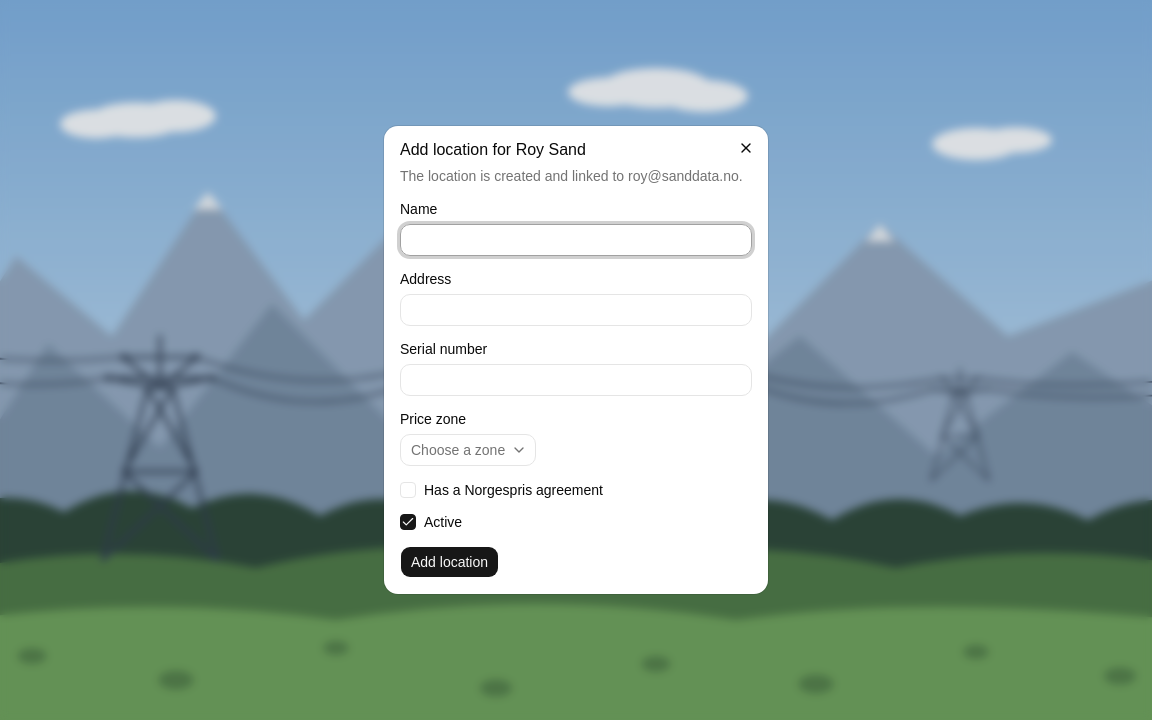
Test: AddLocationDialog › creates the location, links it to the chosen user and shows the key once
In the field labelled "Name": [576, 240] box x1=400 y1=224 x2=752 y2=256, type "Cabin"
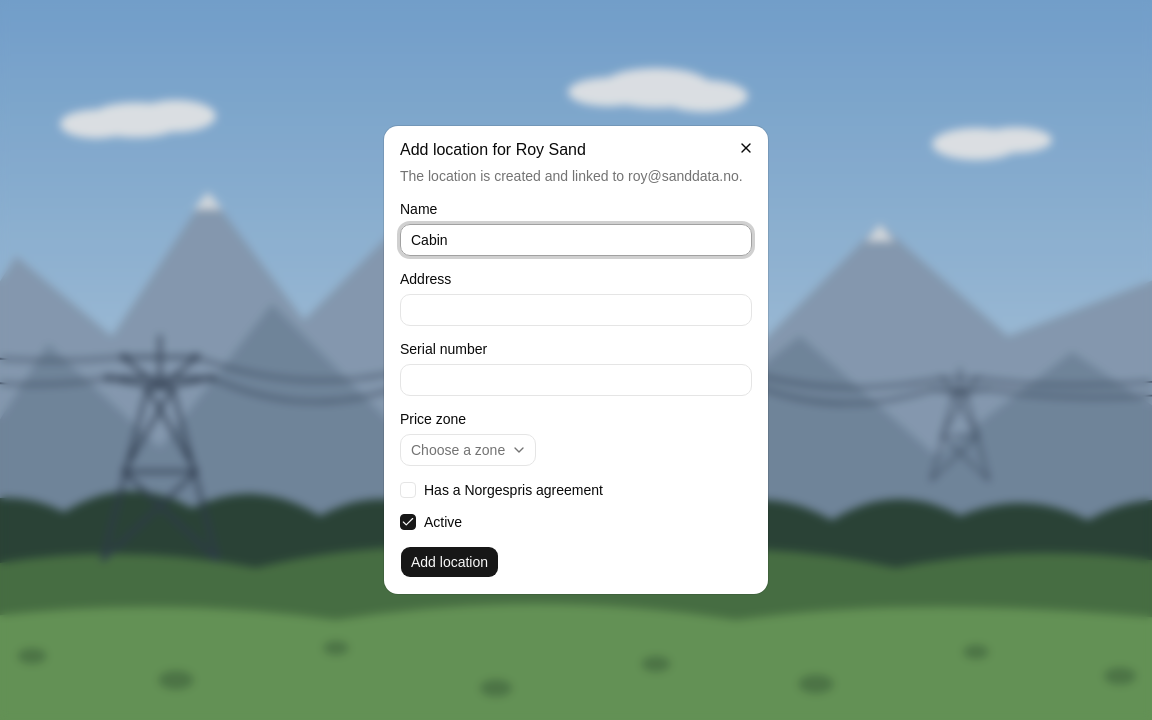
In the field labelled "Address": [576, 310] box x1=400 y1=294 x2=752 y2=326, type "Hyttevegen 1"
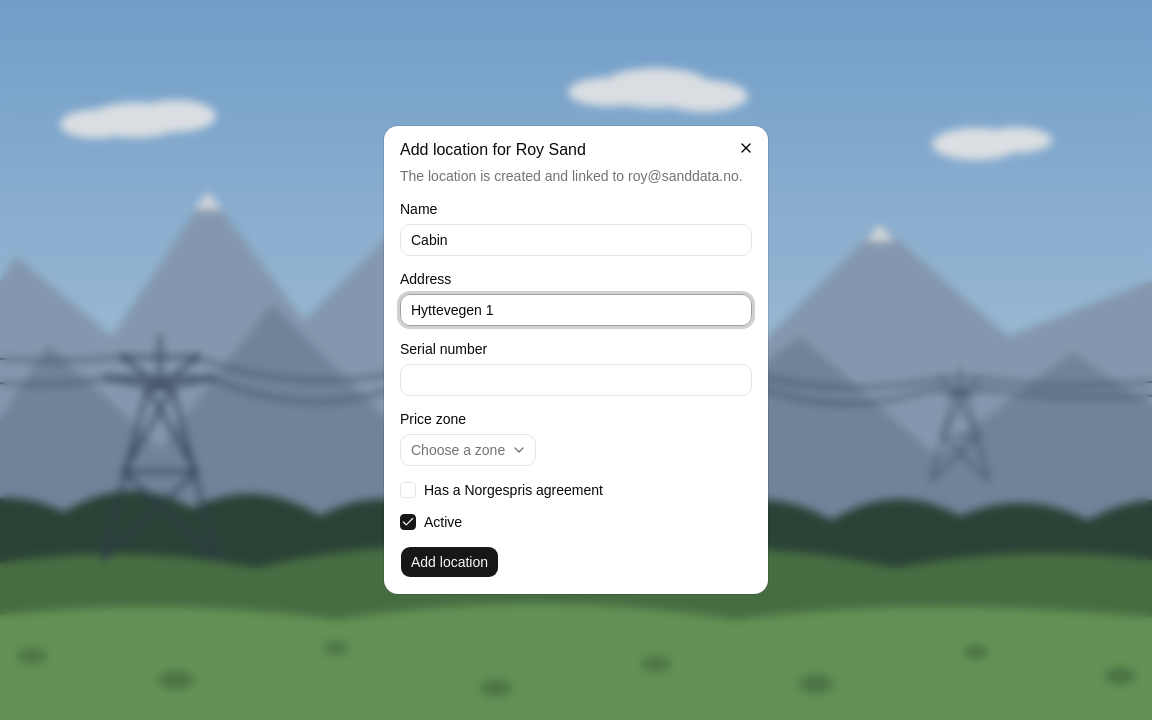
In the field labelled "Serial number": [576, 380] box x1=400 y1=364 x2=752 y2=396, type "SN-1"
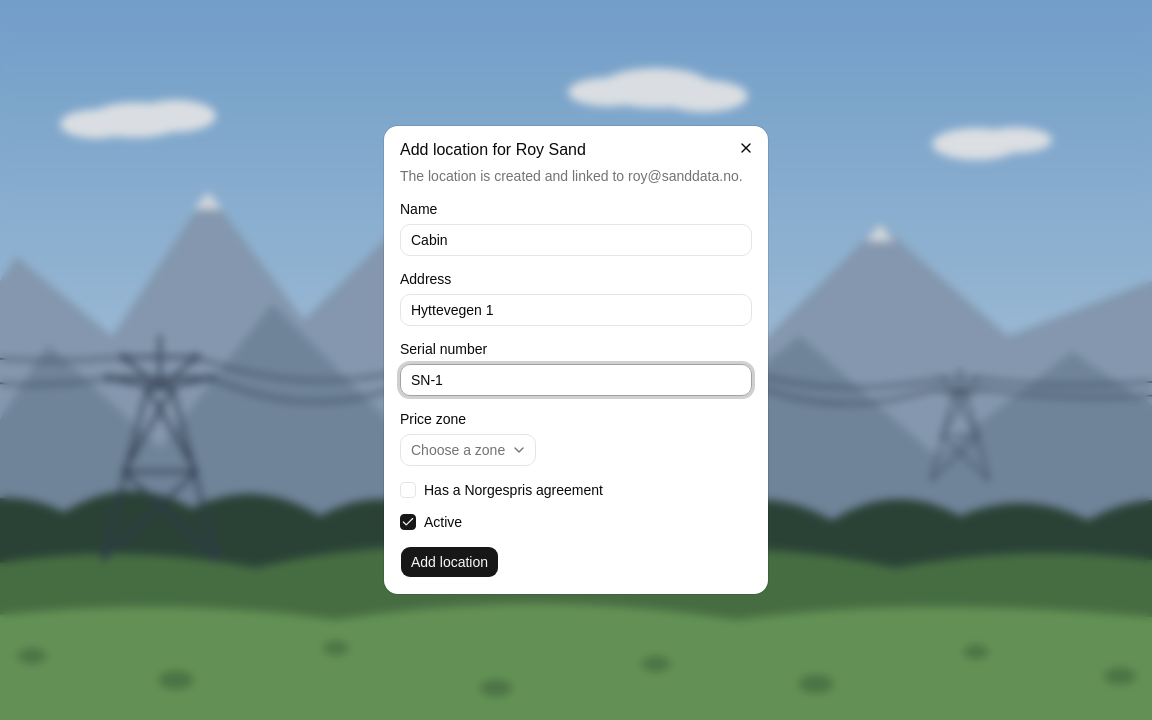
Click the dropdown named "Price zone": [468, 450] box x1=400 y1=434 x2=536 y2=466
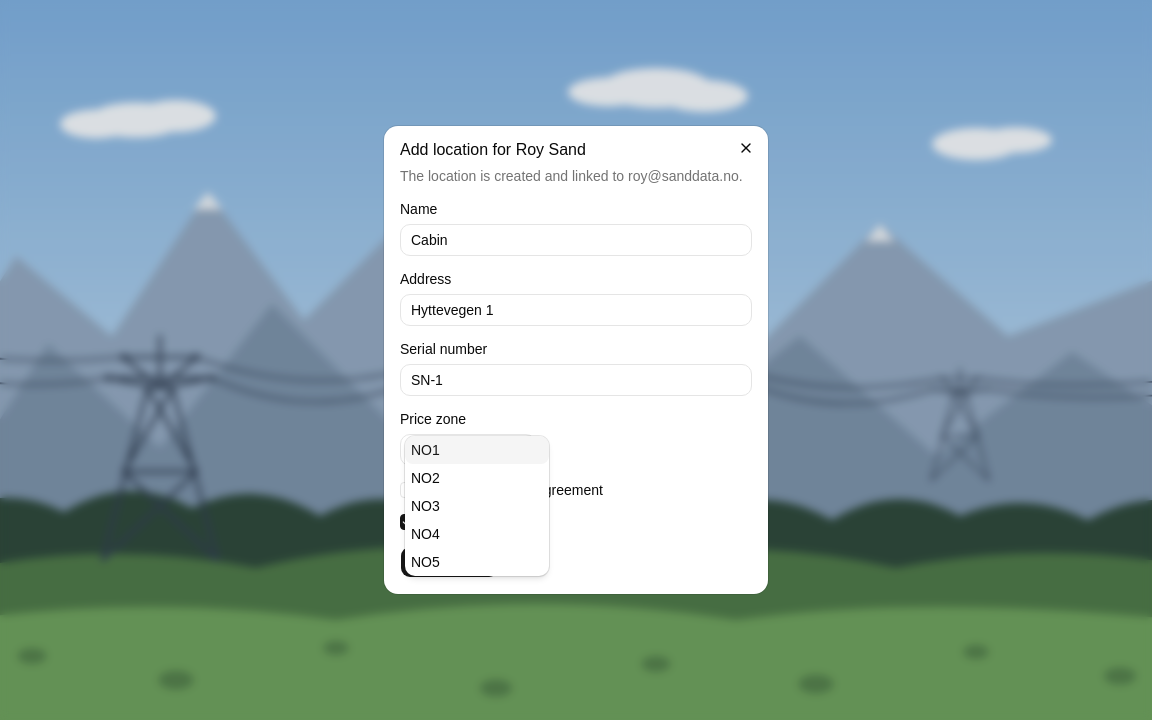
Click the option "NO3": [425, 506] box x1=411 y1=498 x2=440 y2=514
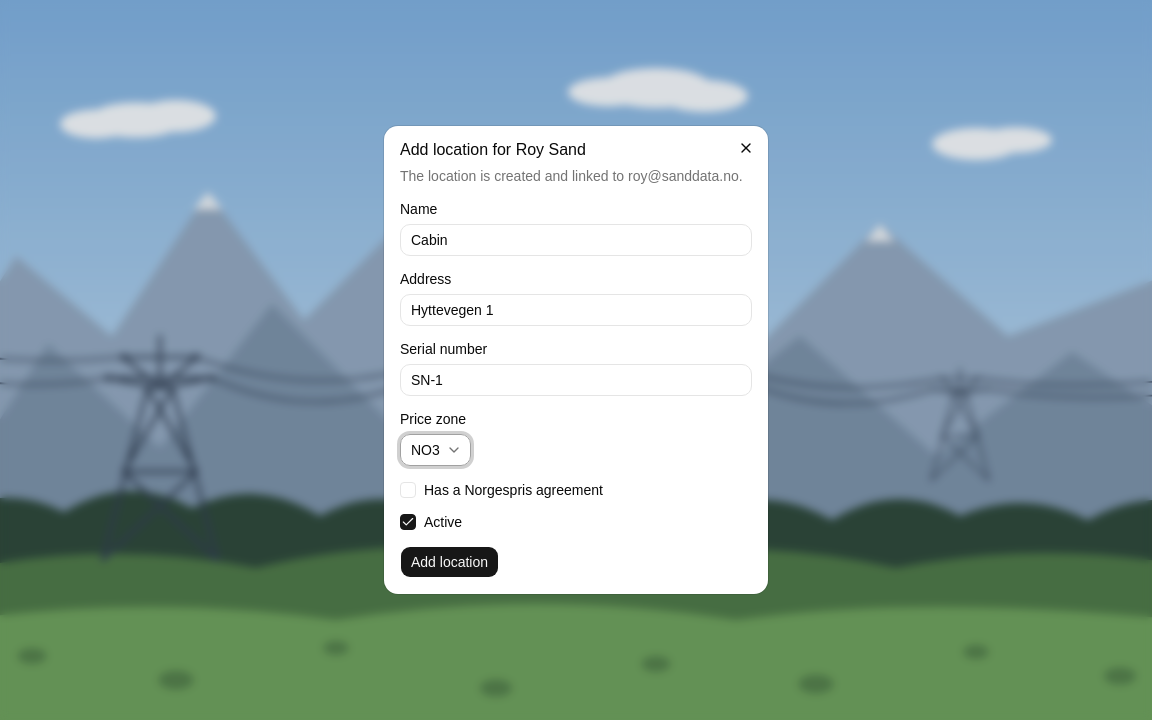
Click the button "Add location": [450, 562] box x1=400 y1=546 x2=499 y2=578
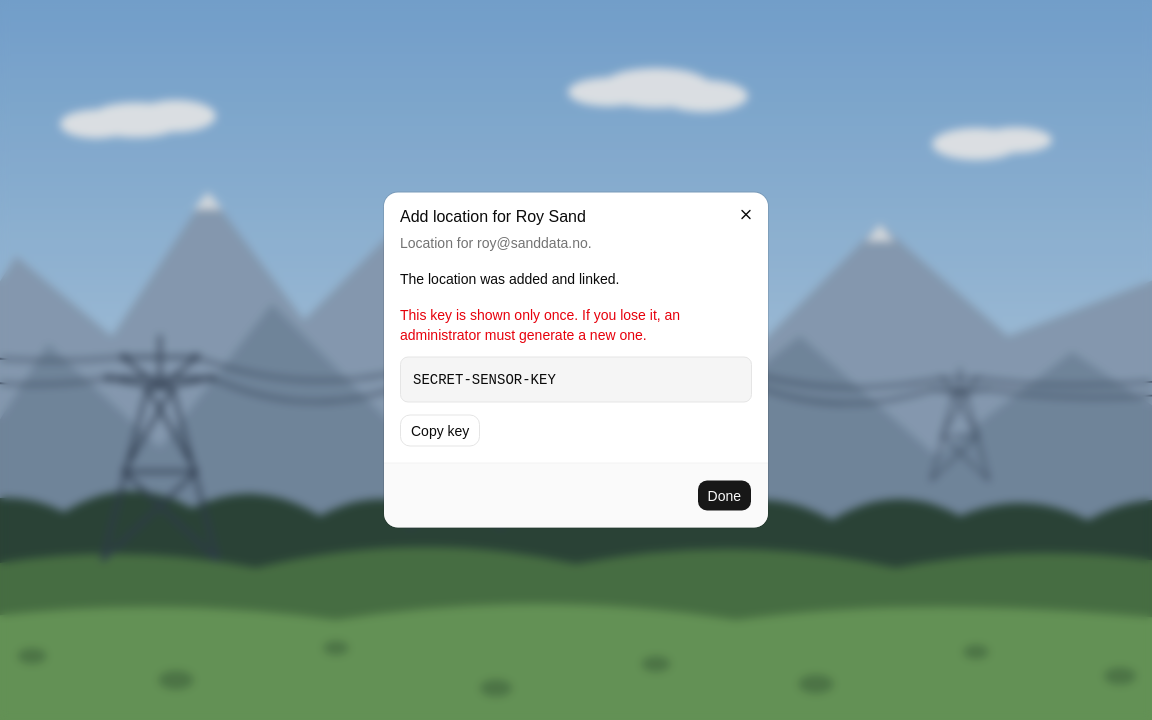
Check: the text "SECRET-SENSOR-KEY" is shown, box x1=400 y1=356 x2=752 y2=402
Check: the message shows "only once", box x1=400 y1=306 x2=680 y2=342
